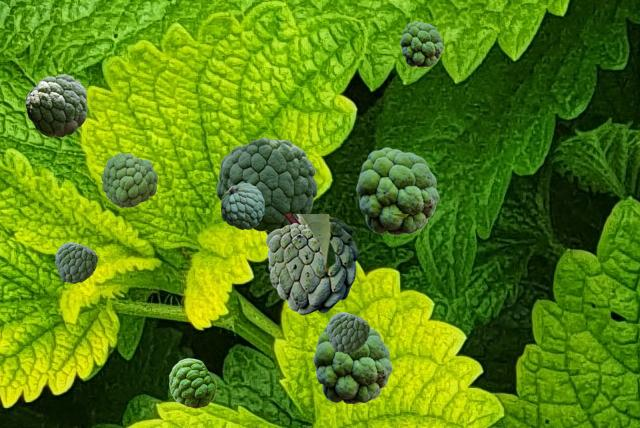atis: (265, 214, 407, 314), (216, 137, 316, 232), (356, 147, 438, 234), (313, 325, 391, 403), (25, 74, 86, 136), (101, 153, 156, 206), (169, 358, 215, 407), (400, 21, 442, 66), (221, 183, 263, 228), (55, 242, 96, 282), (327, 312, 368, 352)
